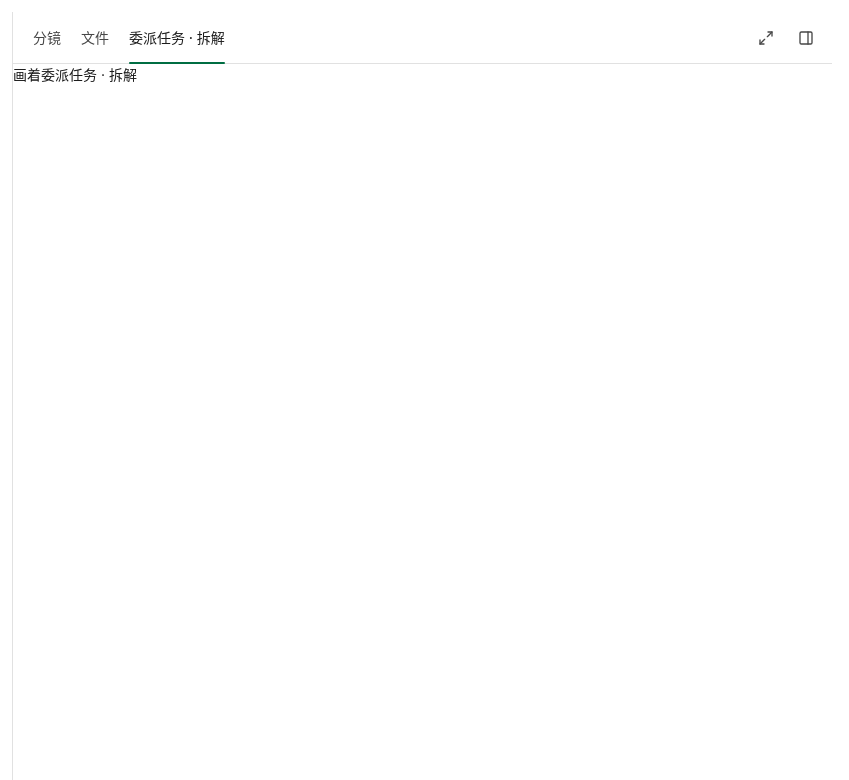
Test: WorkbenchHost 展开态 › 派活卡只有被地址点名时才占标签位，切到别的标签它就退回菜单
This screenshot has width=849, height=780.
Check: the text "画着委派任务 · 拆解" is shown, box top-left (13, 66), bottom-right (137, 83)
Check: the tab "委派任务 · 拆解" is shown, box top-left (121, 12), bottom-right (233, 63)
Click the tab "分镜".
click(47, 38)  # box top-left (25, 12), bottom-right (69, 63)
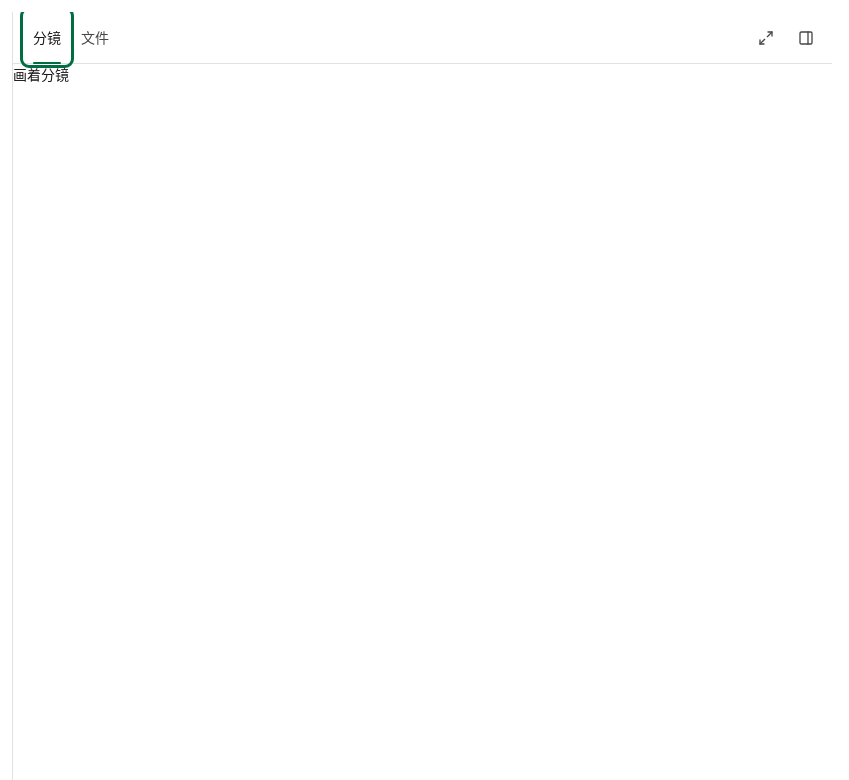
Check: the text "画着分镜" is shown, box top-left (13, 66), bottom-right (69, 83)
Check: the tab "委派任务 · 拆解" is gone
